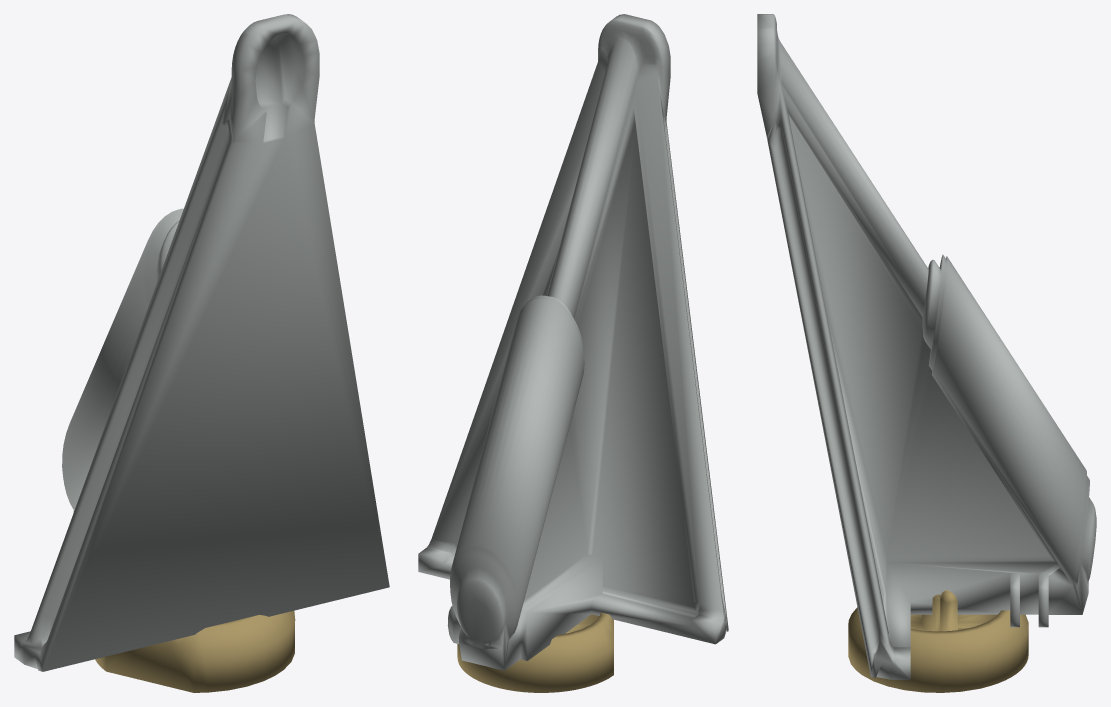
Rendered from viking-stilt-leg.glb.
The picture shows the model from 3 angles, left to right: view 1: azimuth 30°, elevation 25°; view 2: azimuth 150°, elevation 25°; view 3: azimuth 270°, elevation 25°; orthographic projection. The views are drawn at different scales.
Parts seen in each view (by area): view 1: viking-stilt-leg; view 2: viking-stilt-leg; view 3: viking-stilt-leg.
Boxes of the visible parts, left/top/right/bottom form: viking-stilt-leg: left=14, top=14, right=389, bottom=692; viking-stilt-leg: left=418, top=14, right=728, bottom=692; viking-stilt-leg: left=757, top=14, right=1096, bottom=692.
Size of the model in its own units: 0.615 by 1.15 by 0.5644.
